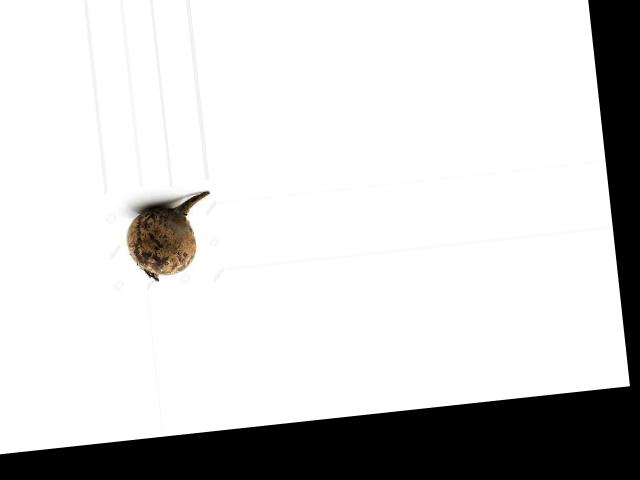beet: (121, 191, 217, 283)
